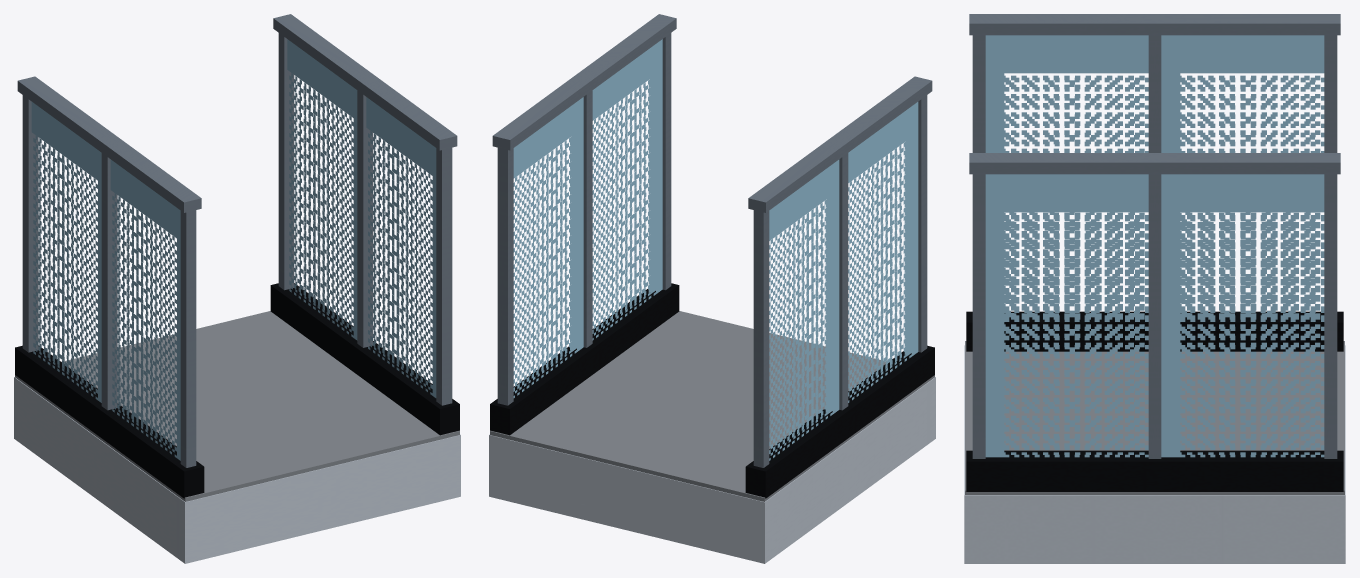
The model's file is tt_leisure_slide_link.glb.
3 views of the same model, side by side, from view 1: azimuth 30°, elevation 25°; view 2: azimuth 150°, elevation 25°; view 3: azimuth 270°, elevation 25° (orthographic). The views are drawn at different scales.
Visible parts, largest first — view 1: Link_Pane_Scissor, Link_DeckFinish, Link_Deck, Link_Post, Link_Kick, Link_CapRail; view 2: Link_Pane_Scissor, Link_DeckFinish, Link_Deck, Link_Post, Link_Kick, Link_CapRail; view 3: Link_Pane_Scissor, Link_Deck, Link_Kick, Link_DeckFinish, Link_Post, Link_CapRail.
Part boxes in pixels (x1,y1,x2,y2): Link_Pane_Scissor: (31, 39, 436, 460); Link_DeckFinish: (15, 311, 459, 501); Link_Deck: (14, 377, 460, 563); Link_Post: (22, 33, 452, 467); Link_Kick: (15, 283, 459, 498); Link_CapRail: (17, 14, 457, 212); Link_Pane_Scissor: (513, 39, 918, 460); Link_DeckFinish: (490, 311, 934, 501); Link_Deck: (489, 377, 935, 563); Link_Post: (497, 33, 927, 467); Link_Kick: (490, 283, 934, 498); Link_CapRail: (492, 14, 932, 212); Link_Pane_Scissor: (985, 35, 1324, 457); Link_Deck: (964, 345, 1345, 563); Link_Kick: (966, 311, 1343, 491); Link_DeckFinish: (965, 341, 1344, 494); Link_Post: (972, 35, 1337, 458); Link_CapRail: (969, 14, 1340, 174).
Size of what is drawn, in the model's own units: 1.1 by 1.37 by 1.18.
Materials: 5 (4 with a texture image).
